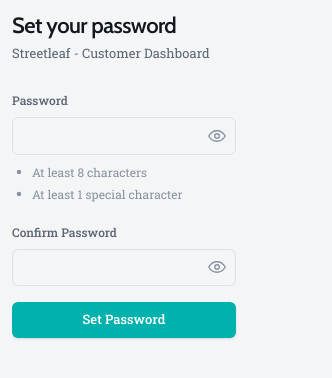
Test: RegisterForm › disables the submit button and shows a setting-password label while in flight
The width and height of the screenshot is (332, 378).
Type "Pass.123" into the password field labelled "Password" at (124, 136), box [12, 117, 236, 154]
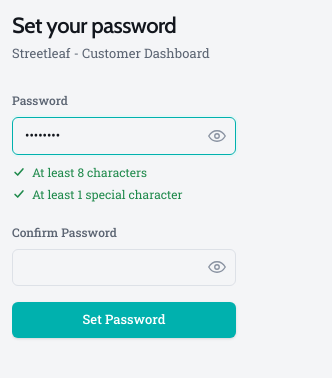
Type "Pass.123" into the password field labelled "Confirm Password" at (124, 267), box [12, 248, 236, 286]
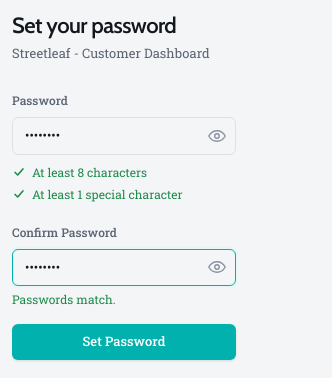
Click the button "Set Password" at (124, 342), box [12, 324, 236, 360]
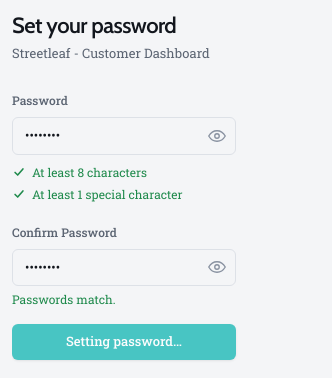
Result: the button "Setting password…" is disabled at [12, 324, 236, 360]
